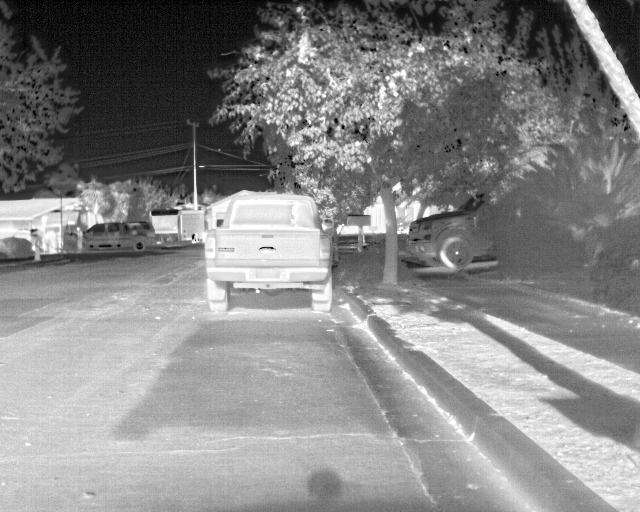car: (185, 180, 355, 325), (80, 211, 157, 258)
